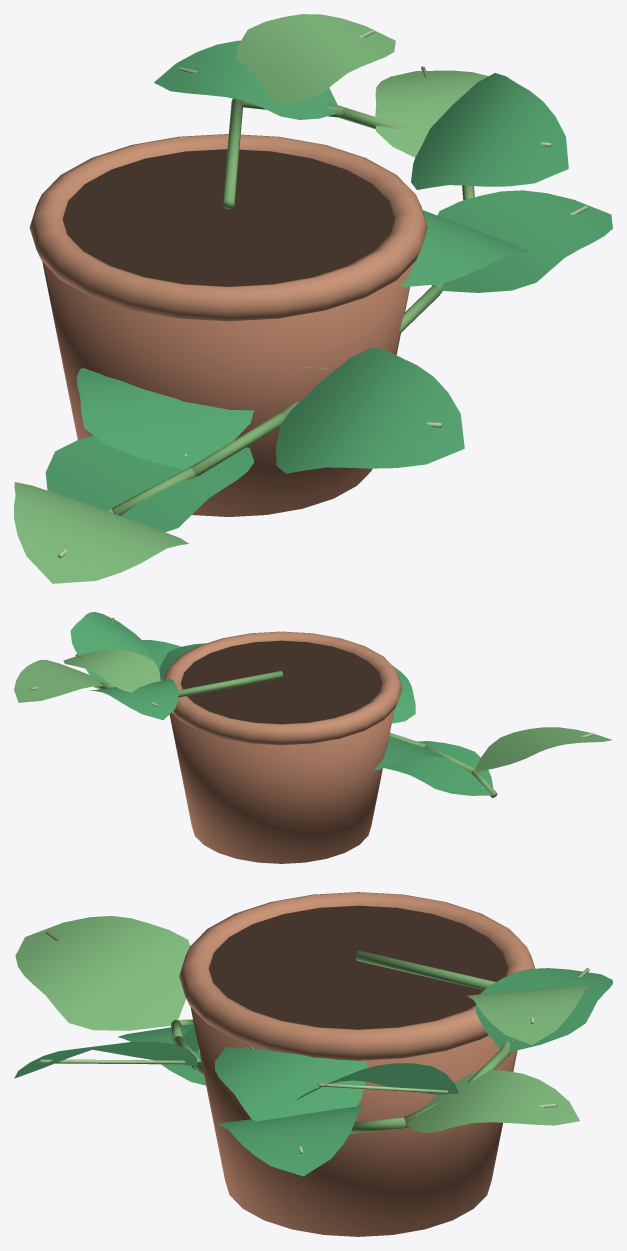
Rendered from golden_pothos.glb.
3 views of the same model, one above another, from view 1: azimuth 30°, elevation 25°; view 2: azimuth 150°, elevation 25°; view 3: azimuth 270°, elevation 25° (orthographic). The views are drawn at different scales.
Parts seen in each view (by area): view 1: pot_static, soil_static, pot_rim_static, leaf_g605_pothos_7, leaf_g230_pothos_2, leaf_g455_pothos_5, leaf_g680_pothos_8, leaf_g755_pothos_9, leaf_g830_pothos_10, leaf_g080_pothos_0, leaf_g305_pothos_3, leaf_g155_pothos_1 (+4 smaller); view 2: pot_static, soil_static, pot_rim_static, leaf_g830_pothos_10, leaf_g755_pothos_9, leaf_g080_pothos_0, leaf_g305_pothos_3, leaf_g230_pothos_2, leaf_g155_pothos_1, leaf_g680_pothos_8, vine_g080_pothos_0, leaf_g605_pothos_7 (+2 smaller); view 3: pot_static, soil_static, pot_rim_static, leaf_g755_pothos_9, leaf_g380_pothos_4, leaf_g305_pothos_3, leaf_g455_pothos_5, leaf_g080_pothos_0, leaf_g155_pothos_1, leaf_g230_pothos_2, leaf_g605_pothos_7, vine_g080_pothos_0 (+4 smaller).
Part boxes in pixels (x1=…): pot_static: x1=42, y1=262, x2=412, y2=516; soil_static: x1=62, y1=149, x2=394, y2=286; pot_rim_static: x1=29, y1=134, x2=427, y2=321; leaf_g605_pothos_7: x1=276, y1=347, x2=464, y2=473; leaf_g230_pothos_2: x1=411, y1=73, x2=568, y2=189; leaf_g455_pothos_5: x1=437, y1=190, x2=612, y2=292; leaf_g680_pothos_8: x1=76, y1=368, x2=253, y2=470; leaf_g755_pothos_9: x1=14, y1=482, x2=188, y2=583; leaf_g830_pothos_10: x1=45, y1=435, x2=254, y2=532; leaf_g080_pothos_0: x1=236, y1=14, x2=395, y2=103; leaf_g305_pothos_3: x1=375, y1=70, x2=488, y2=157; leaf_g155_pothos_1: x1=154, y1=40, x2=337, y2=119; pot_static: x1=169, y1=709, x2=394, y2=863; soil_static: x1=180, y1=640, x2=382, y2=724; pot_rim_static: x1=163, y1=631, x2=402, y2=745; leaf_g830_pothos_10: x1=384, y1=741, x2=493, y2=795; leaf_g755_pothos_9: x1=475, y1=727, x2=611, y2=771; leaf_g080_pothos_0: x1=63, y1=649, x2=160, y2=692; leaf_g305_pothos_3: x1=14, y1=659, x2=112, y2=702; leaf_g230_pothos_2: x1=70, y1=612, x2=150, y2=682; leaf_g155_pothos_1: x1=89, y1=679, x2=178, y2=720; leaf_g680_pothos_8: x1=374, y1=736, x2=443, y2=770; vine_g080_pothos_0: x1=178, y1=671, x2=283, y2=697; leaf_g605_pothos_7: x1=392, y1=665, x2=415, y2=723; pot_static: x1=190, y1=1007, x2=517, y2=1236; soil_static: x1=209, y1=905, x2=507, y2=1029; pot_rim_static: x1=179, y1=892, x2=534, y2=1060; leaf_g755_pothos_9: x1=15, y1=916, x2=190, y2=1030; leaf_g380_pothos_4: x1=215, y1=1047, x2=367, y2=1121; leaf_g305_pothos_3: x1=407, y1=1070, x2=579, y2=1132; leaf_g455_pothos_5: x1=216, y1=1105, x2=364, y2=1176; leaf_g080_pothos_0: x1=466, y1=983, x2=593, y2=1045; leaf_g155_pothos_1: x1=475, y1=968, x2=612, y2=1051; leaf_g230_pothos_2: x1=295, y1=1063, x2=458, y2=1100; leaf_g605_pothos_7: x1=14, y1=1041, x2=198, y2=1078; vine_g080_pothos_0: x1=355, y1=950, x2=495, y2=989.
Size of the model in its own units: 0.812 by 0.3255 by 0.6514.
